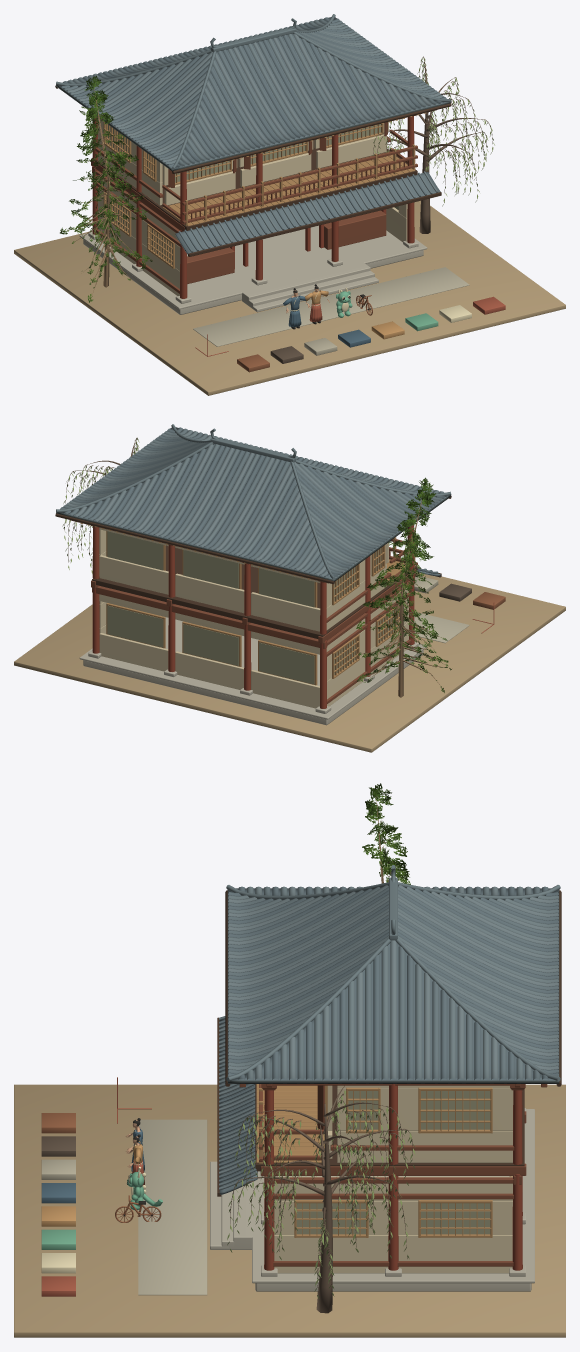
The model's file is assembly.glb.
The picture shows the model from 3 angles, top to bottom: view 1: azimuth 30°, elevation 25°; view 2: azimuth 150°, elevation 25°; view 3: azimuth 270°, elevation 25°; orthographic projection. The views are drawn at different scales.
Visible parts, largest first — view 1: earth study pad, runtime-Grey clay tile 0, runtime-Pale worn stone, runtime-Grey clay tile 2, runtime-Warm weathered structural timber, runtime-Grey clay tile 3, runtime-Grey clay tile 1, runtime-Warm lime plaster, runtime-Freshly cut end grain and joinery, tile1-curved hip roof shell, stone walking strip, leaf cards (+7 smaller); view 2: earth study pad, runtime-Warm lime plaster, runtime-Muted window paper, runtime-Grey clay tile 2, runtime-Grey clay tile 0, runtime-Grey clay tile 1, runtime-Grey clay tile 3, tile1-curved hip roof shell.001, runtime-Pale worn stone, leaf cards, runtime-Warm weathered structural timber, runtime-Muted vermilion columns (+7 smaller); view 3: earth study pad, runtime-Grey clay tile 2, runtime-Warm lime plaster, runtime-Grey clay tile 0, runtime-Grey clay tile 3, runtime-Grey clay tile 1, stone walking strip, runtime-Pale worn stone, runtime-Warm weathered structural timber, runtime-Freshly cut end grain and joinery, tile1-curved hip roof shell.003, runtime-Muted window paper (+13 smaller).
Boxes of the visible parts, x1=… form: earth study pad: x1=14, y1=200, x2=565, y2=395; runtime-Grey clay tile 0: x1=63, y1=18, x2=440, y2=254; runtime-Pale worn stone: x1=79, y1=225, x2=427, y2=314; runtime-Grey clay tile 2: x1=56, y1=14, x2=451, y2=249; runtime-Warm weathered structural timber: x1=91, y1=110, x2=436, y2=293; runtime-Grey clay tile 3: x1=66, y1=19, x2=440, y2=248; runtime-Grey clay tile 1: x1=60, y1=17, x2=446, y2=251; runtime-Warm lime plaster: x1=98, y1=118, x2=407, y2=295; runtime-Freshly cut end grain and joinery: x1=103, y1=112, x2=426, y2=268; tile1-curved hip roof shell: x1=173, y1=33, x2=450, y2=170; stone walking strip: x1=193, y1=267, x2=469, y2=346; leaf cards: x1=60, y1=75, x2=152, y2=302; earth study pad: x1=14, y1=572, x2=565, y2=752; runtime-Warm lime plaster: x1=99, y1=527, x2=408, y2=708; runtime-Muted window paper: x1=107, y1=531, x2=398, y2=684; runtime-Grey clay tile 2: x1=56, y1=424, x2=451, y2=580; runtime-Grey clay tile 0: x1=63, y1=428, x2=440, y2=576; runtime-Grey clay tile 1: x1=60, y1=427, x2=446, y2=577; runtime-Grey clay tile 3: x1=66, y1=430, x2=440, y2=575; tile1-curved hip roof shell.001: x1=56, y1=444, x2=333, y2=580; runtime-Pale worn stone: x1=79, y1=617, x2=426, y2=725; leaf cards: x1=356, y1=477, x2=451, y2=692; runtime-Warm weathered structural timber: x1=70, y1=520, x2=417, y2=703; runtime-Muted vermilion columns: x1=92, y1=525, x2=414, y2=708; earth study pad: x1=14, y1=1084, x2=565, y2=1337; runtime-Grey clay tile 2: x1=219, y1=865, x2=560, y2=1186; runtime-Warm lime plaster: x1=274, y1=1085, x2=513, y2=1273; runtime-Grey clay tile 0: x1=219, y1=886, x2=558, y2=1194; runtime-Grey clay tile 3: x1=219, y1=885, x2=558, y2=1189; runtime-Grey clay tile 1: x1=219, y1=886, x2=558, y2=1182; stone walking strip: x1=138, y1=1119, x2=207, y2=1295; runtime-Pale worn stone: x1=210, y1=1108, x2=534, y2=1291; runtime-Warm weathered structural timber: x1=239, y1=1084, x2=547, y2=1266; runtime-Freshly cut end grain and joinery: x1=256, y1=1084, x2=512, y2=1237; tile1-curved hip roof shell.003: x1=228, y1=943, x2=558, y2=1083; runtime-Muted window paper: x1=296, y1=1091, x2=490, y2=1234.
Size of the model in its own units: 19.03 by 10.28 by 16.
27 materials, 1 textured.
